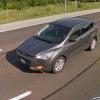Car: (8, 14, 98, 77)
